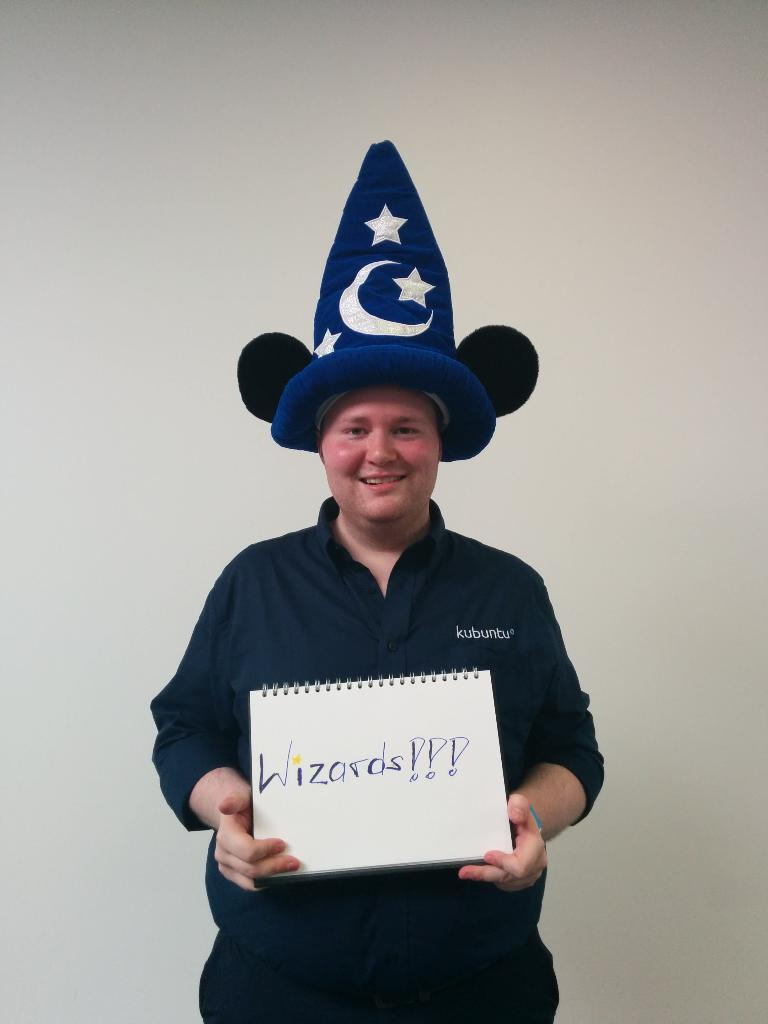Hat: (272, 134, 492, 464)
